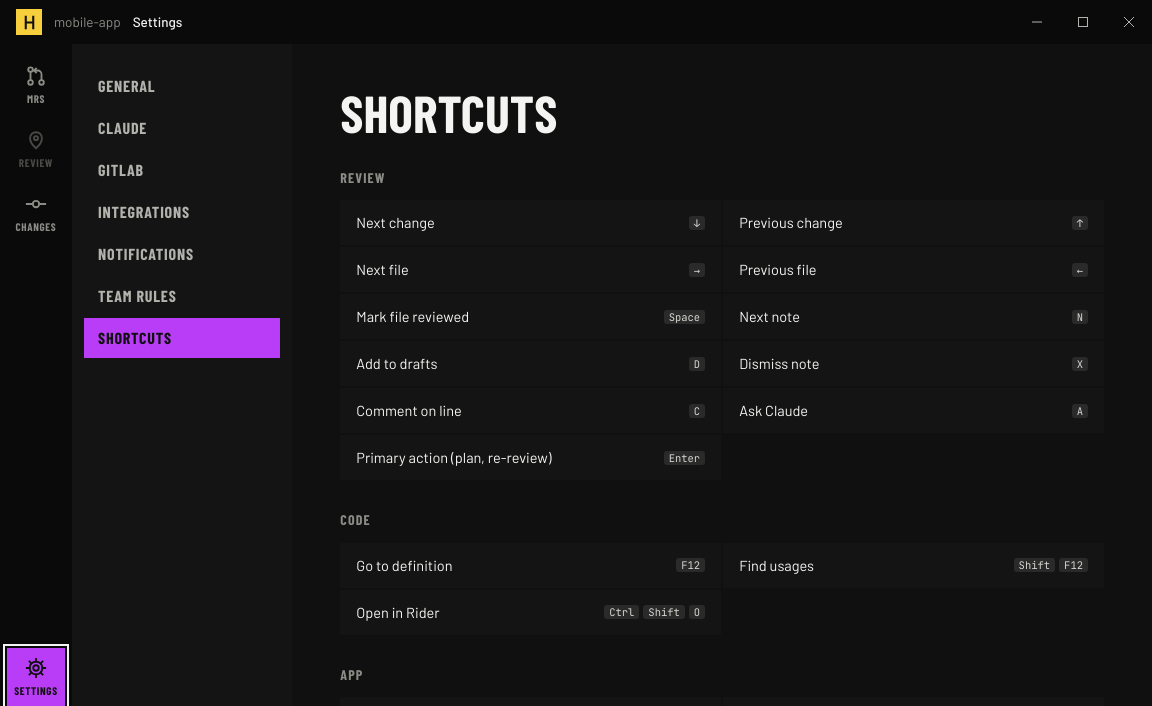
Test case: Settings › Shortcuts › changing a shortcut › F-19.7 Space is captured like any other key and is shown as Space
Expected: the heading "Shortcuts" is shown, [340, 88, 557, 138]
Expected: the button named "Change shortcut for Next note" is shown, [1068, 303, 1092, 331]
Click the button "Space".
click(684, 317)  # box [660, 303, 709, 331]
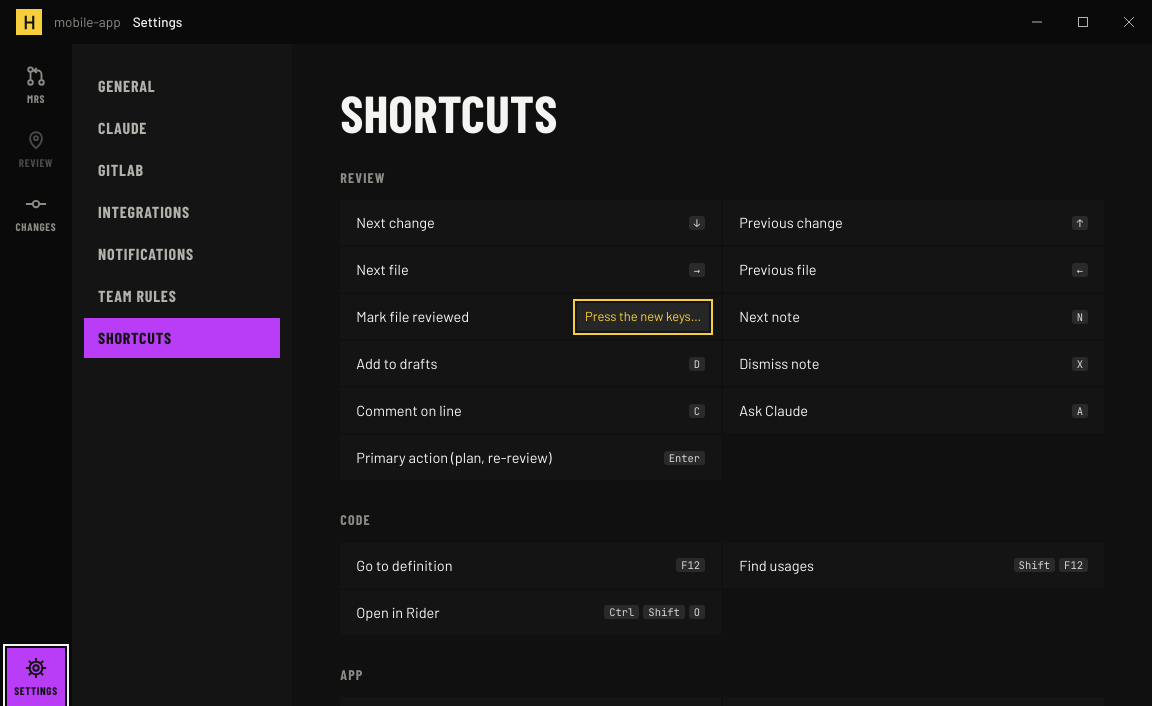
Type keys "m"
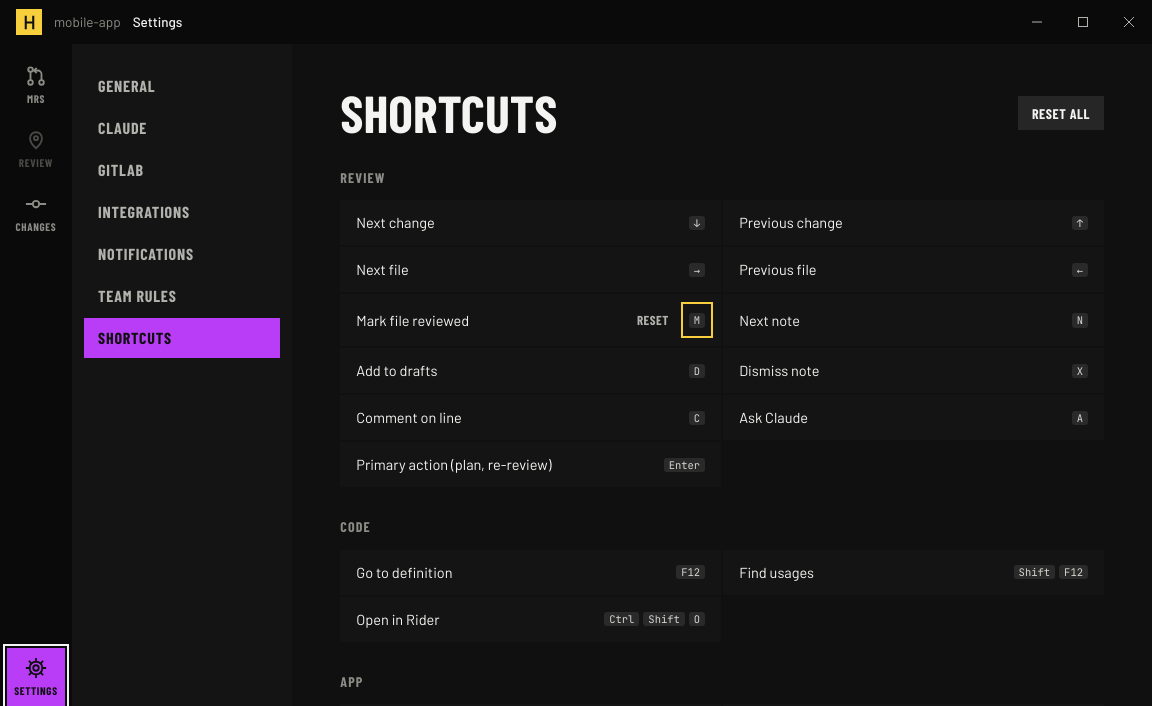
Click the button named "Change shortcut for Next note".
click(1080, 320)  # box [1068, 306, 1092, 334]
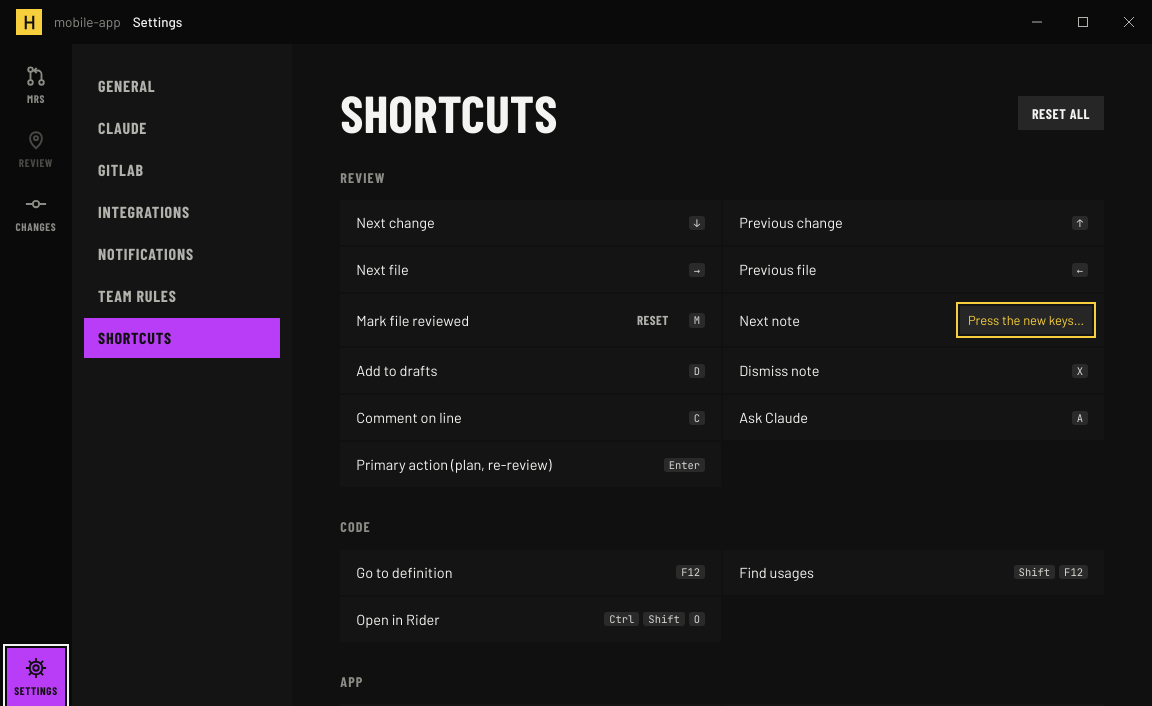
Type keys " "
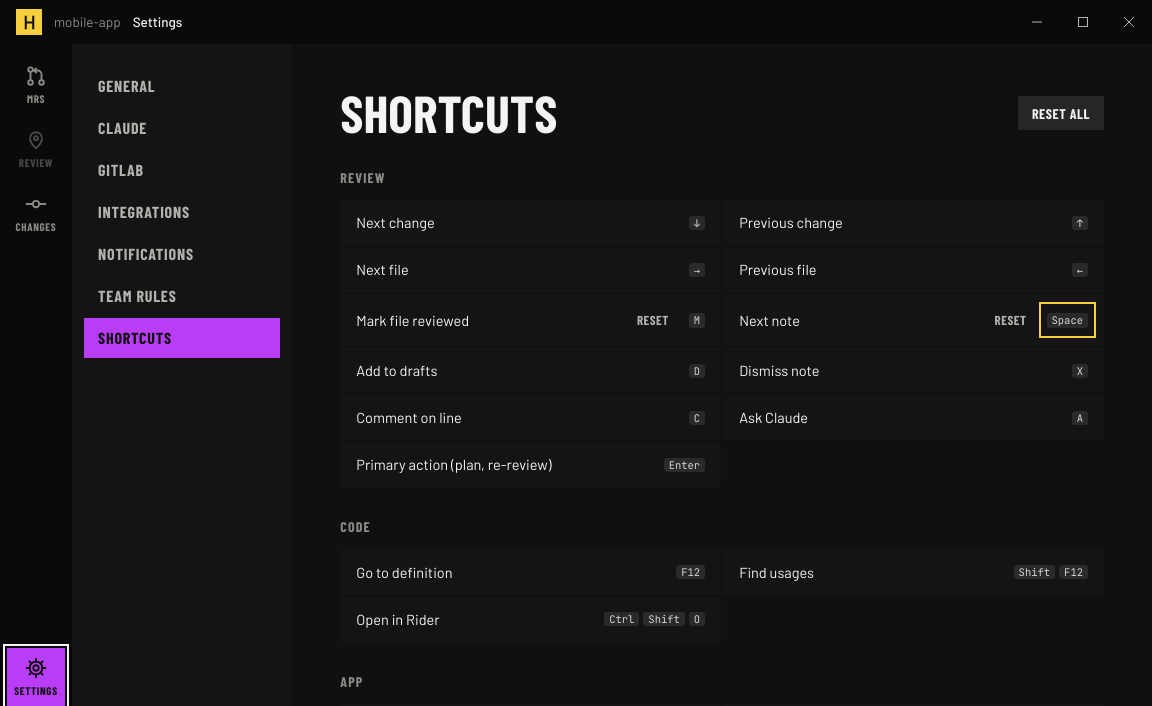
Expected: the text "Press the new keys…" is gone
